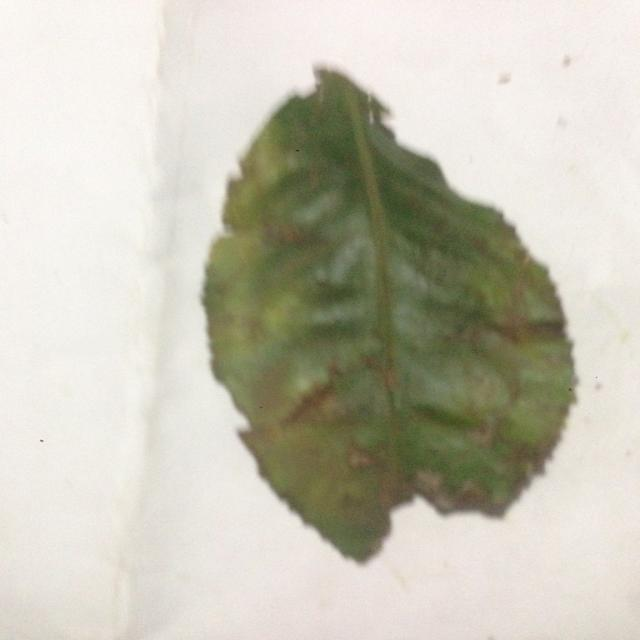Red Leaf Spot: (199, 66, 567, 554)
